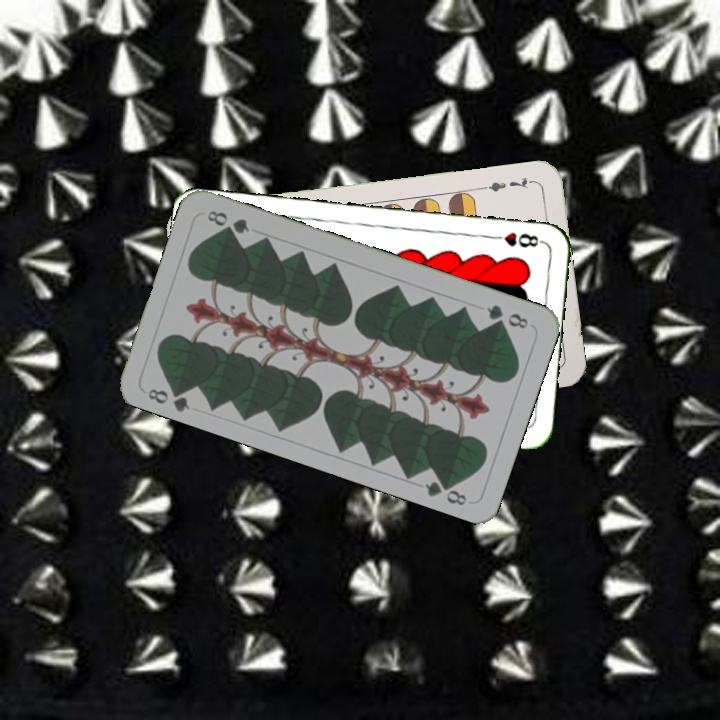E7: (478, 173, 537, 195)
G8: (143, 381, 193, 414), (482, 301, 531, 331)
H8: (486, 228, 546, 250)
